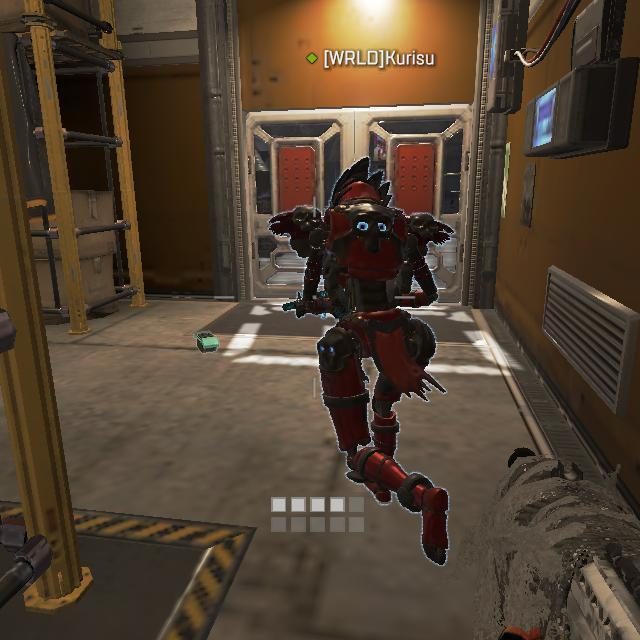avatar: (269, 154, 455, 570)
